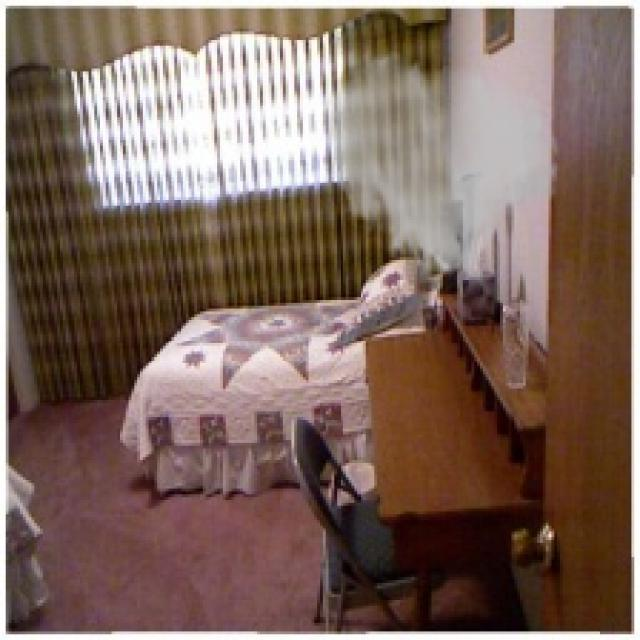Smoke: (323, 48, 563, 292)
